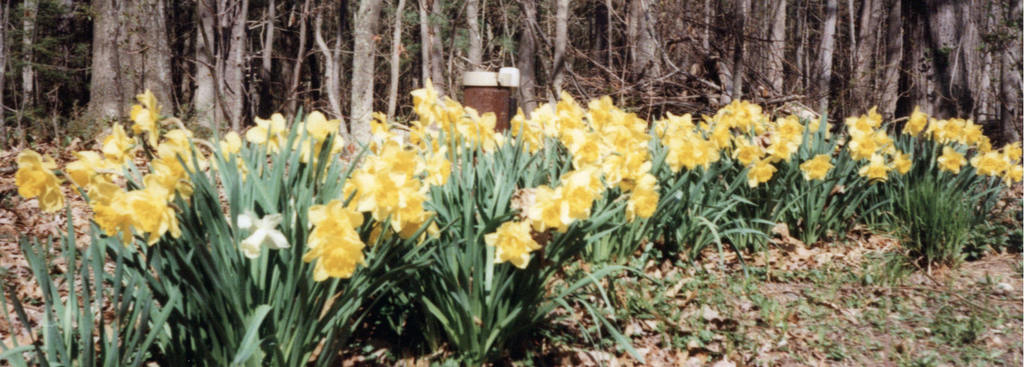Tree: (0, 0, 1023, 146)
